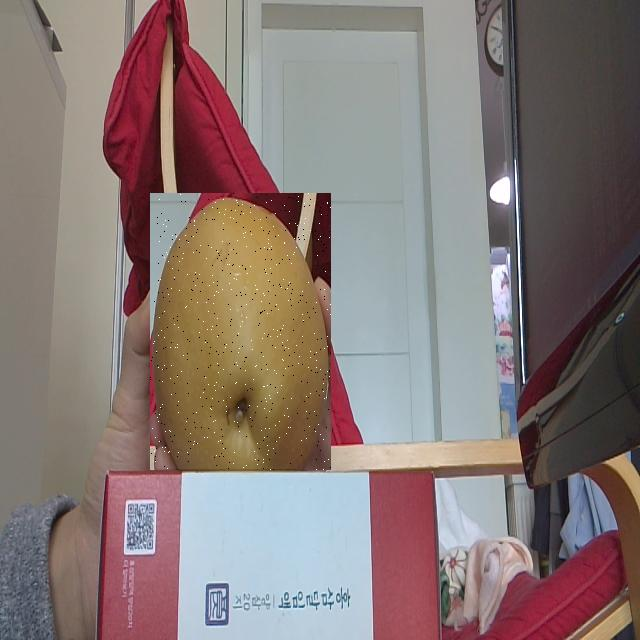pear: (150, 193, 331, 470)
